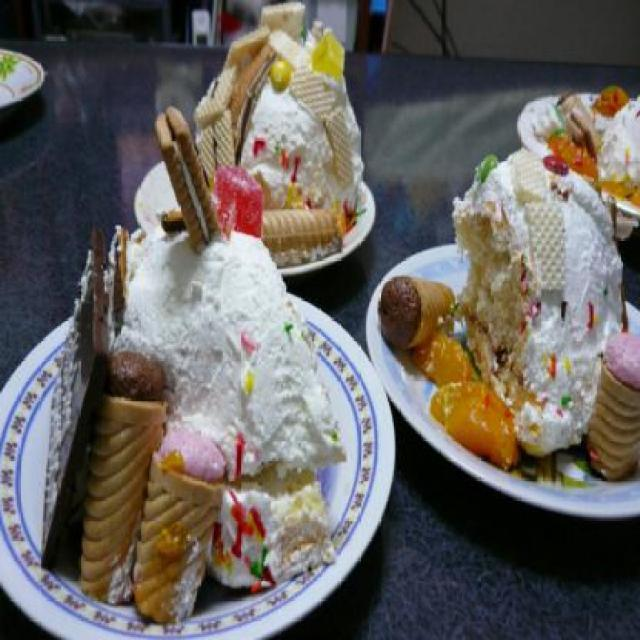Ice cream: (48, 170, 346, 590), (394, 138, 640, 460), (194, 0, 366, 246)
